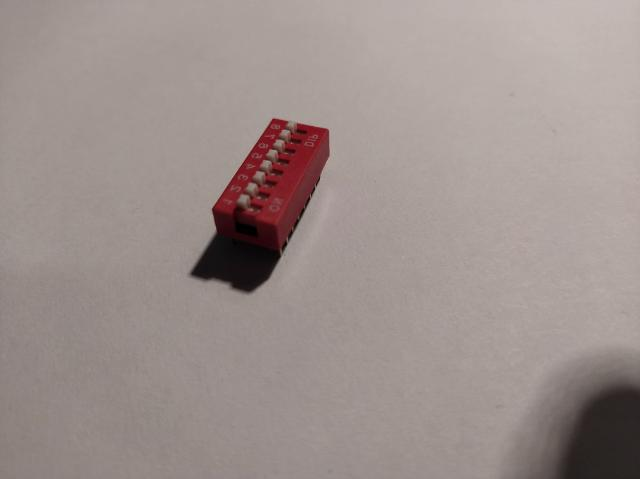dip_switch: (211, 118, 329, 258)
